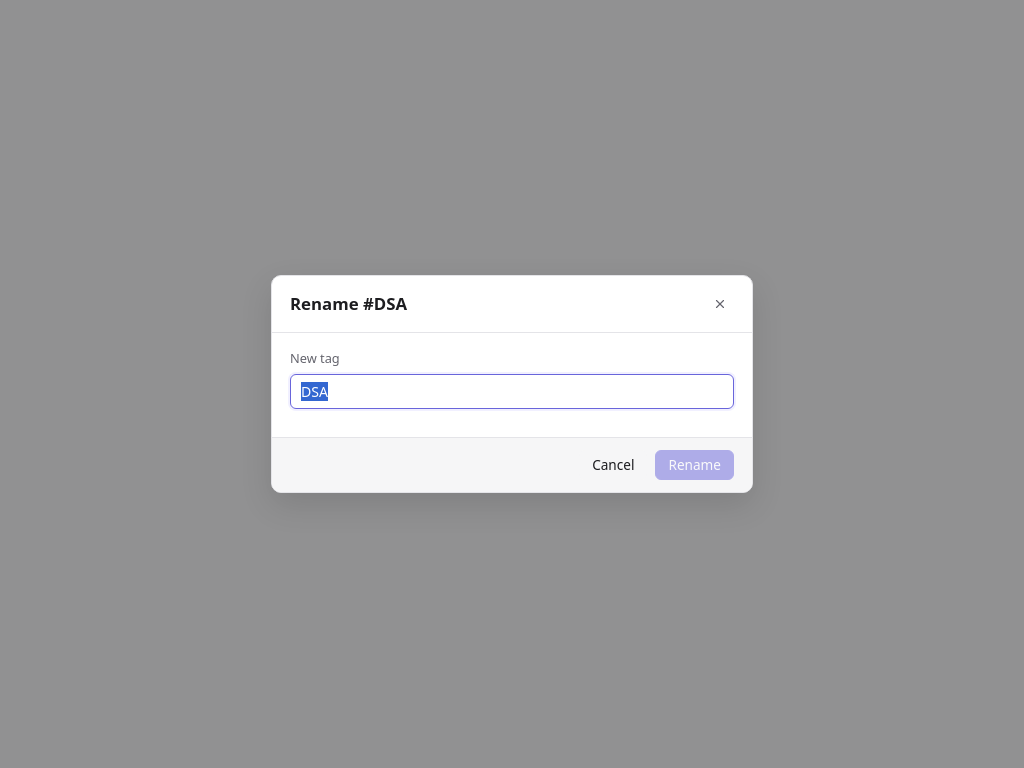
Scenario: RenameTagDialog › lists child keys and warns about a merge
This screenshot has width=1024, height=768.
Replace the text in the field labelled "New tag" with "ML" at [512, 391], box [290,374,734,409]
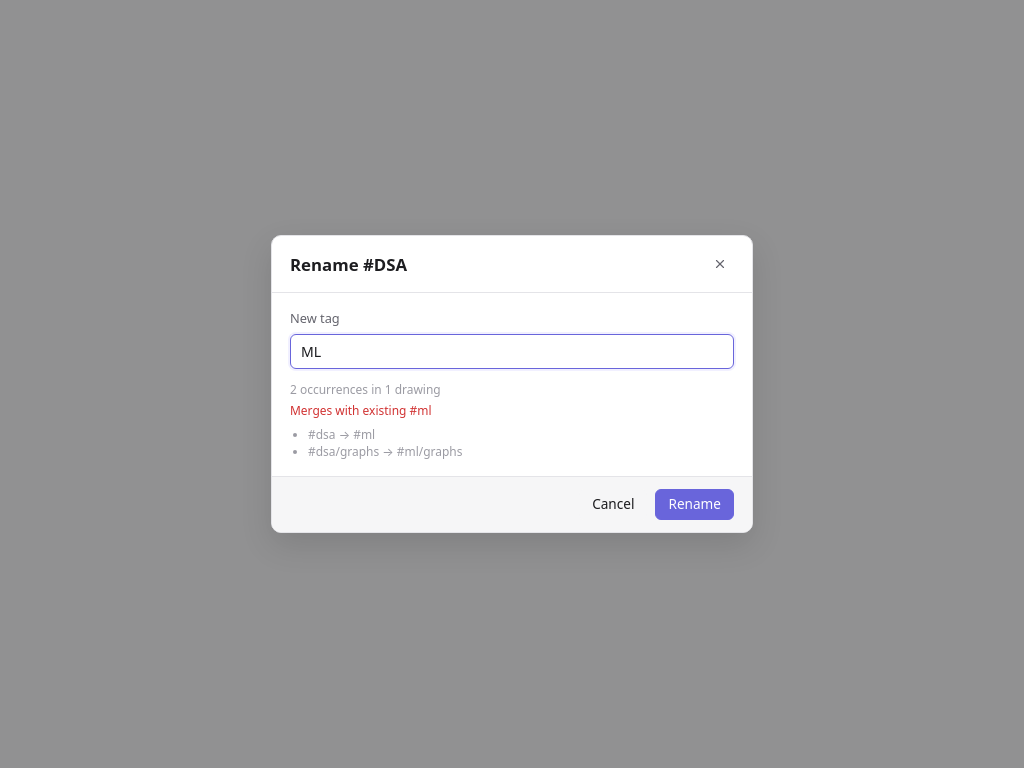
Check: the message reads "Merges with existing #ml", box [290,402,432,419]
Check: the list item "#dsa/graphs → #ml/graphs" is shown, box [308,443,462,460]
